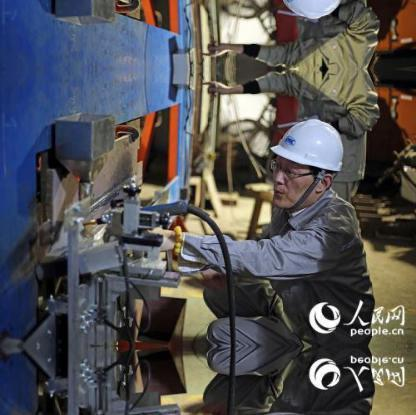helmet: (268, 113, 351, 180)
